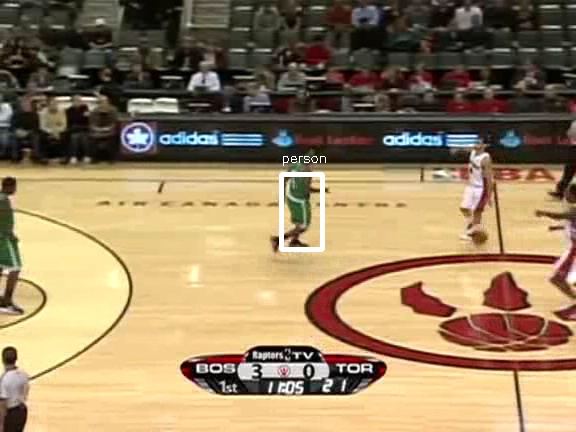person: (282, 157, 316, 238), (281, 157, 315, 238), (283, 157, 317, 238), (282, 156, 316, 237), (282, 158, 316, 239)
target_negative: (15, 254, 149, 392), (288, 245, 405, 340), (393, 220, 541, 282), (174, 313, 487, 330), (451, 163, 568, 185), (69, 227, 81, 423)
